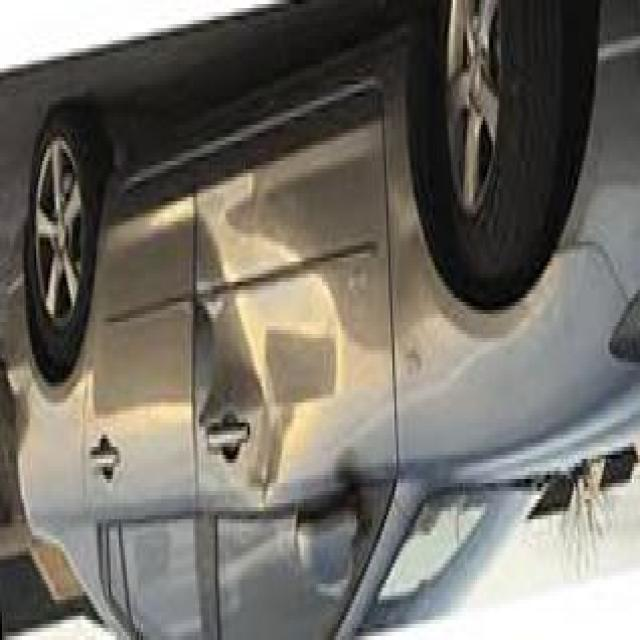dent: (179, 135, 348, 518)
